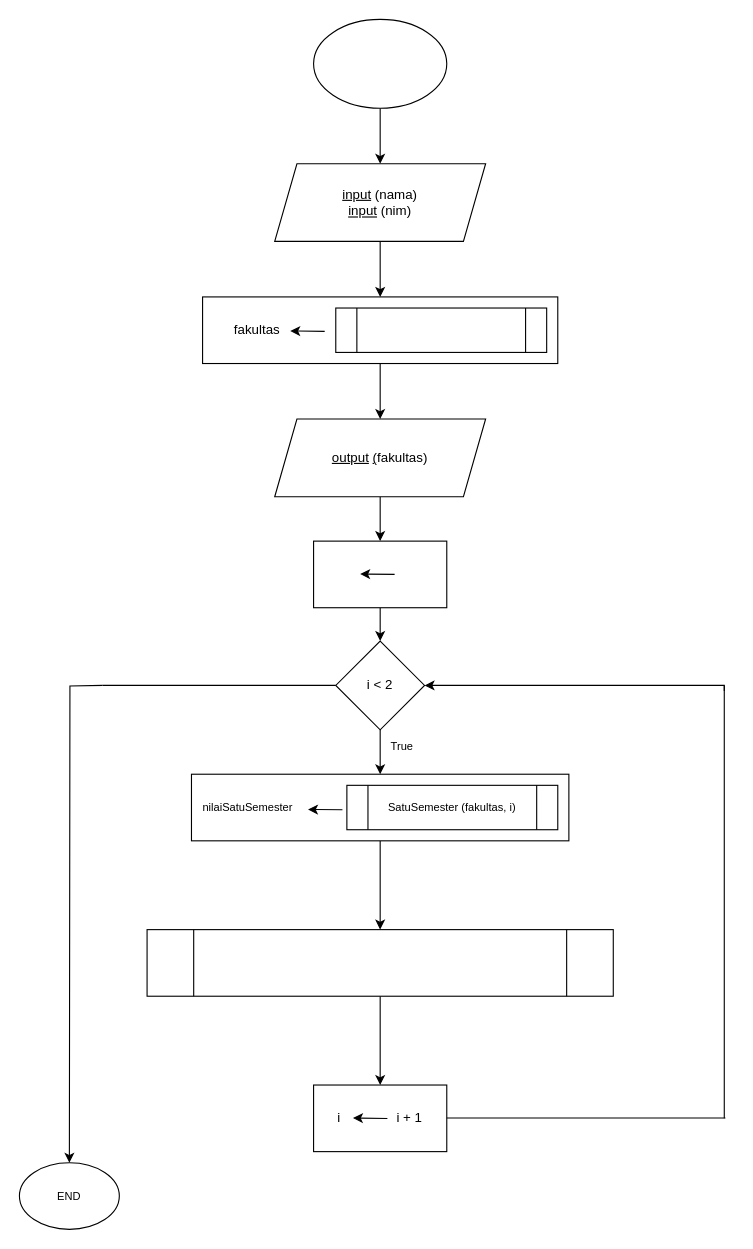
The diagram is 753 pixels wide and 1249 high, and some of its shapes have lost their labels. The centre of each missing label's shape, as x and y in pixels:
CetakHasil (nama, nim, fakultas, nilaiSatuSemester, i): pixel 379 962
i 0: pixel 379 574
KomputasiRekayasa (nim): pixel 441 329
START: pixel 379 63
